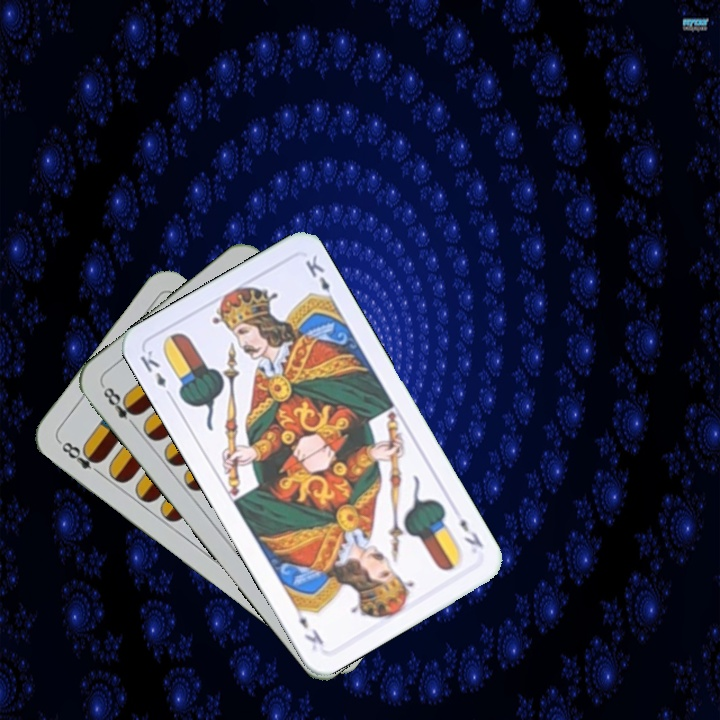E8: (98, 381, 141, 431), (55, 437, 105, 479)
EK: (136, 346, 176, 402), (455, 514, 486, 551)
